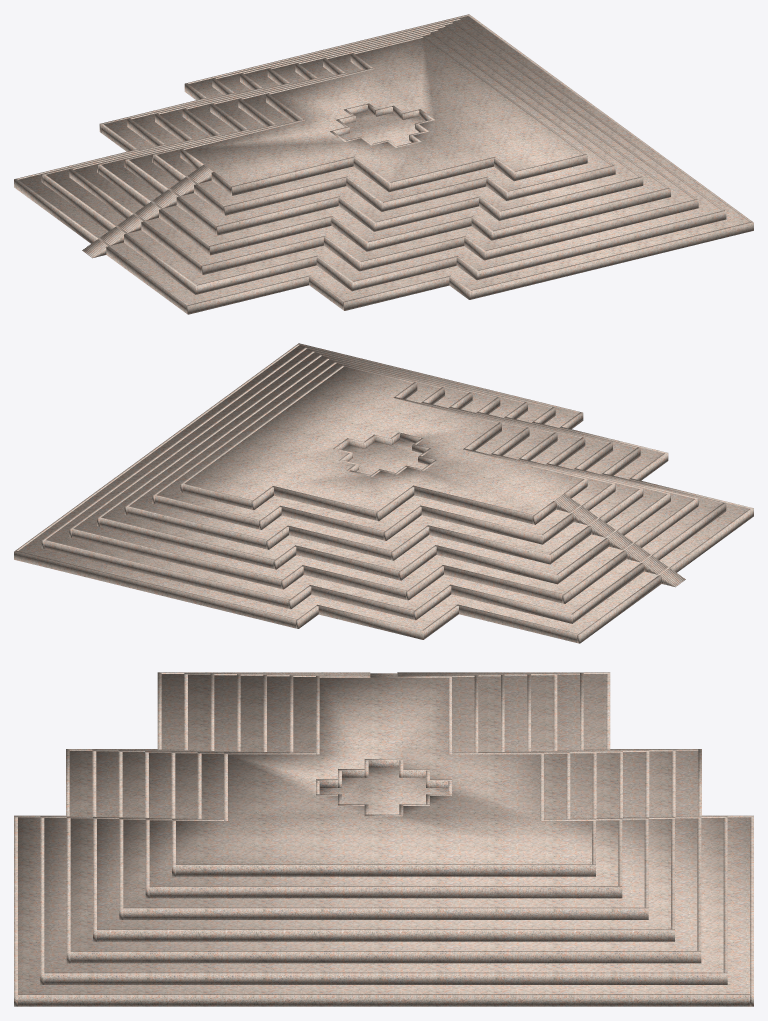
File: piramide.glb
3 renders of one model, top to bottom at view 1: azimuth 30°, elevation 25°; view 2: azimuth 150°, elevation 25°; view 3: azimuth 270°, elevation 25°, orthographic. The views are drawn at different scales.
Parts seen in each view (by area): view 1: Fer 1.002; view 2: Fer 1.002; view 3: Fer 1.002.
Boxes of the visible parts, left/top/right/bottom form: Fer 1.002: left=14, top=14, right=753, bottom=314; Fer 1.002: left=14, top=343, right=753, bottom=643; Fer 1.002: left=14, top=672, right=753, bottom=1006.
Bounding box in the file's own units: 46.58 × 4.82 × 43.82.
2 materials, 1 textured.
